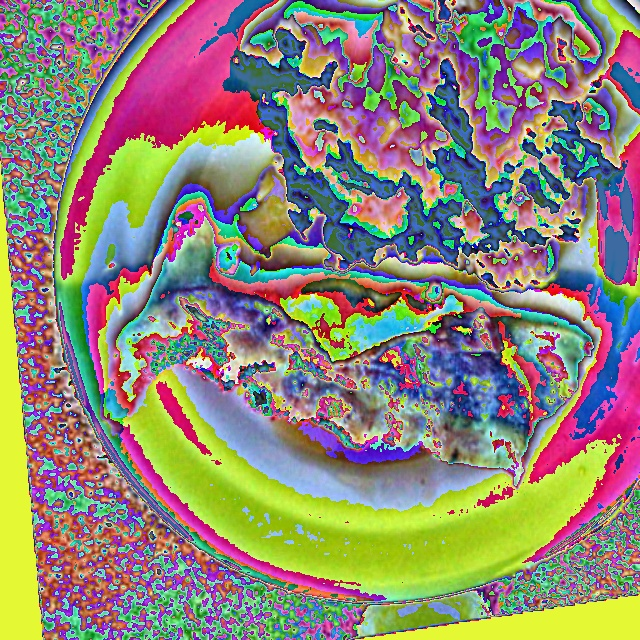background: (102, 202, 594, 494), (229, 0, 621, 295)
